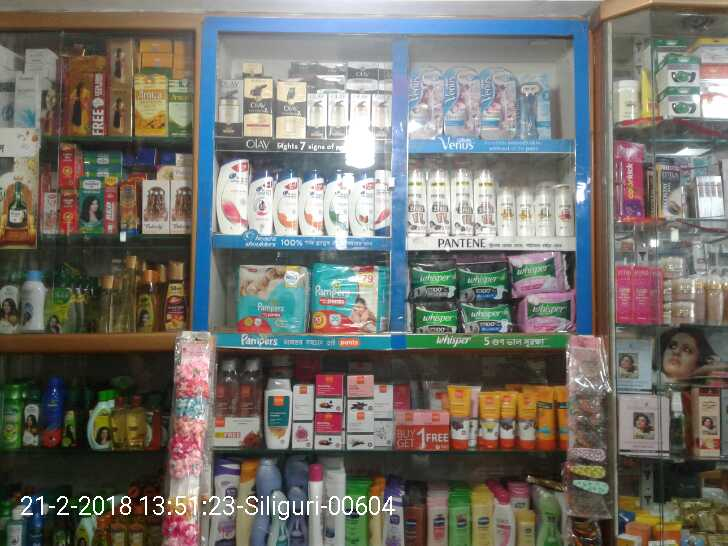venus: (409, 66, 445, 135), (481, 68, 517, 136), (445, 68, 481, 135), (517, 71, 551, 136)
